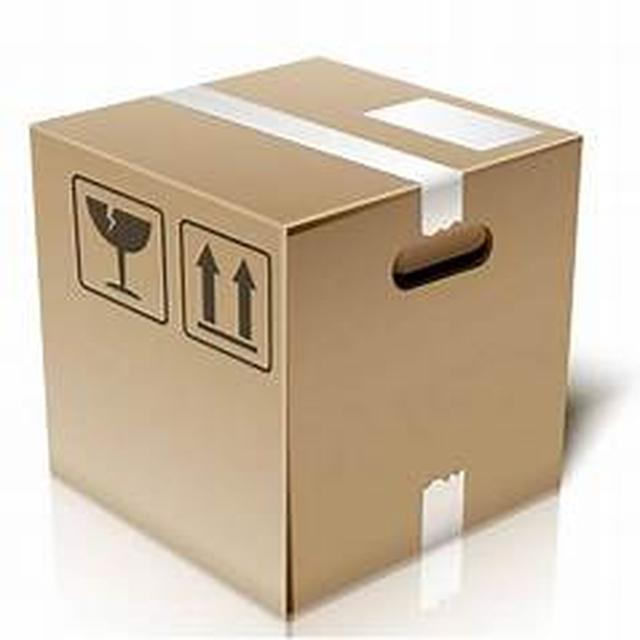box: (18, 39, 595, 625)
